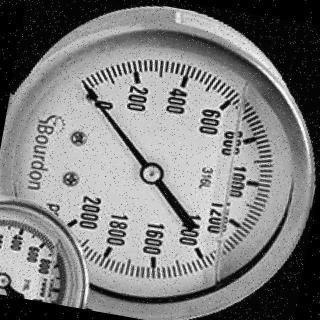gauge: (8, 25, 308, 314), (0, 198, 89, 318), (67, 74, 111, 116), (55, 203, 95, 240), (138, 161, 164, 187), (74, 75, 98, 97), (0, 271, 12, 290)
